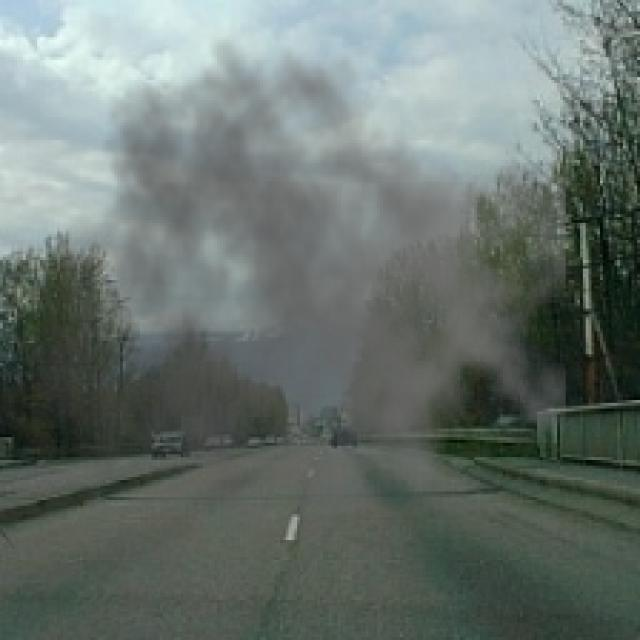smoke: (26, 28, 566, 583)
